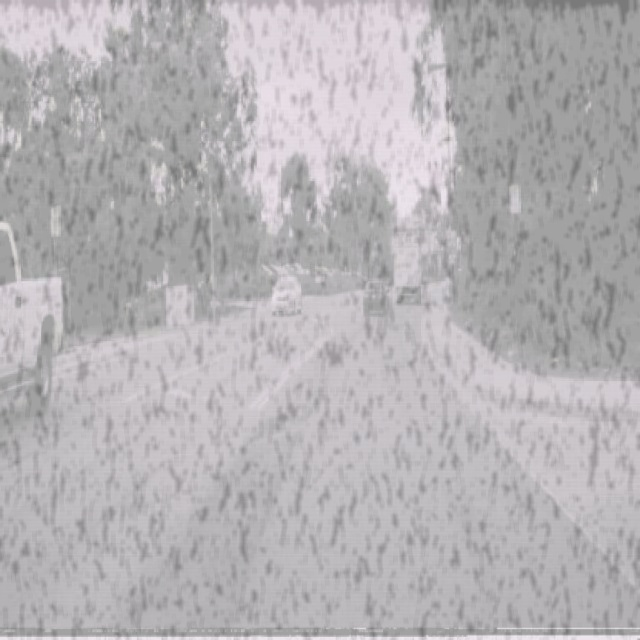schoolSpeedLimit25: (446, 228, 458, 264)
